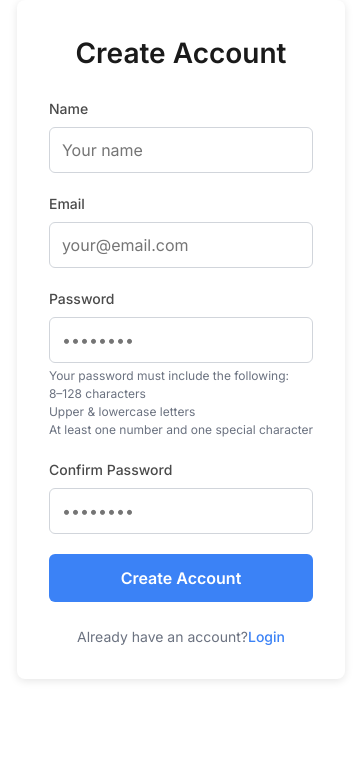
Test: RegisterForm - Validation Logic › should display error when passwords do not match
Step 1. Type "Test User" into the field labelled "Name" → {"x": 181, "y": 150}, box left=49, top=127, right=313, bottom=173
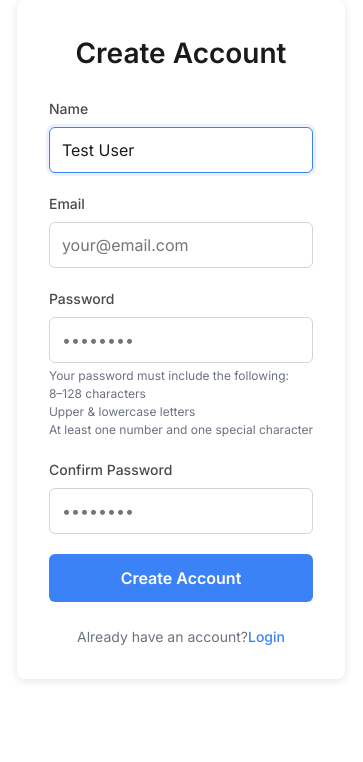
Step 2. Type "test@example.com" into the field labelled "Email" → {"x": 181, "y": 245}, box left=49, top=222, right=313, bottom=268
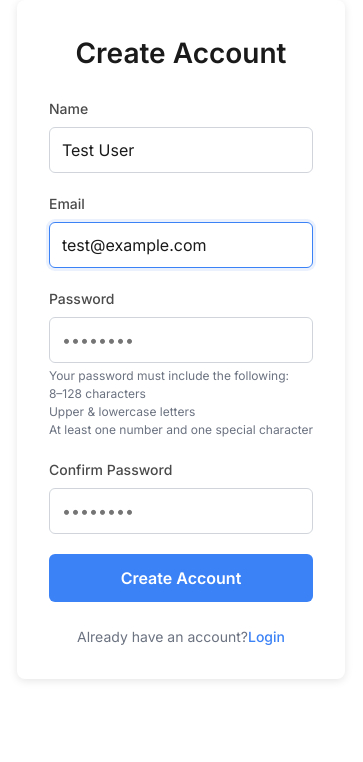
Step 3. Type "Password123!" into the password field labelled "Password" → {"x": 181, "y": 340}, box left=49, top=317, right=313, bottom=363
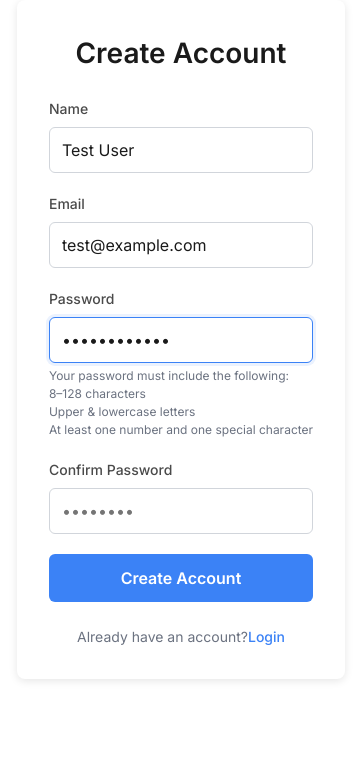
Step 4. Type "DifferentPassword123!" into the password field labelled "Confirm Password" → {"x": 181, "y": 511}, box left=49, top=488, right=313, bottom=534
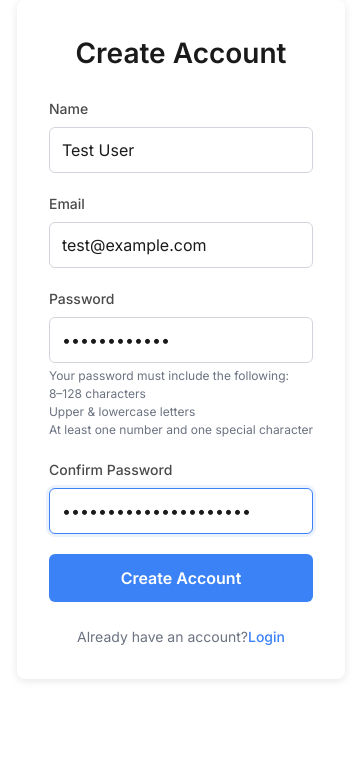
Step 5. Click the button "Create Account" → {"x": 181, "y": 578}, box left=49, top=554, right=313, bottom=602
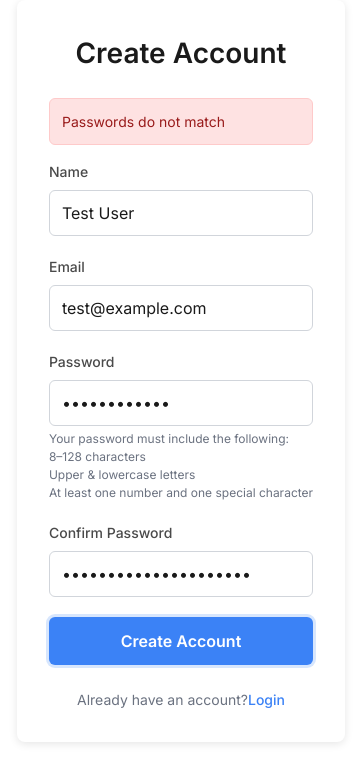
Expected: the message reads "Passwords do not match", left=62, top=113, right=225, bottom=130
